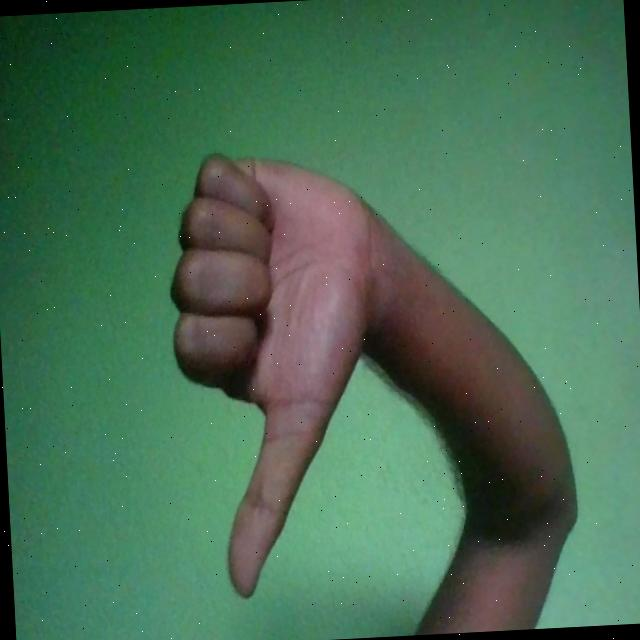Dislike: (164, 144, 397, 602)
